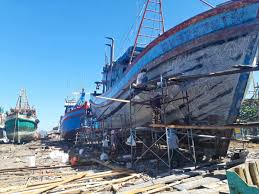tau_dansu: (92, 17, 259, 149), (6, 88, 40, 143), (57, 90, 90, 139)
